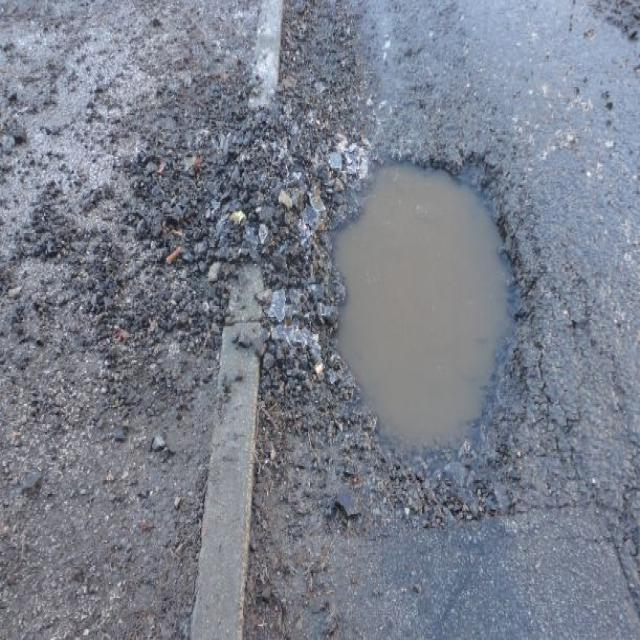Pothole: (317, 138, 530, 497)
